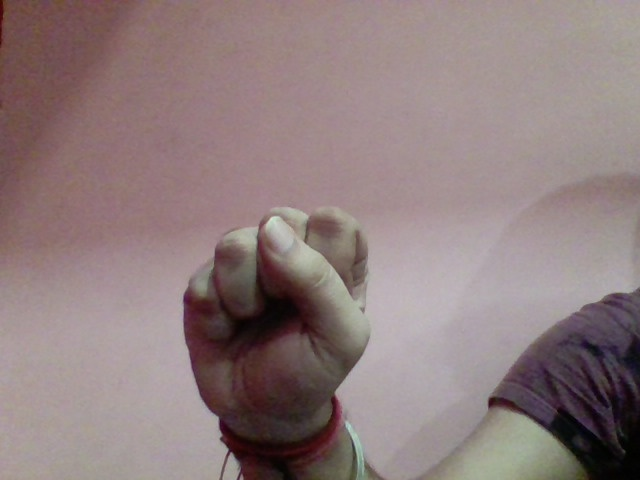s: (172, 196, 389, 418)
